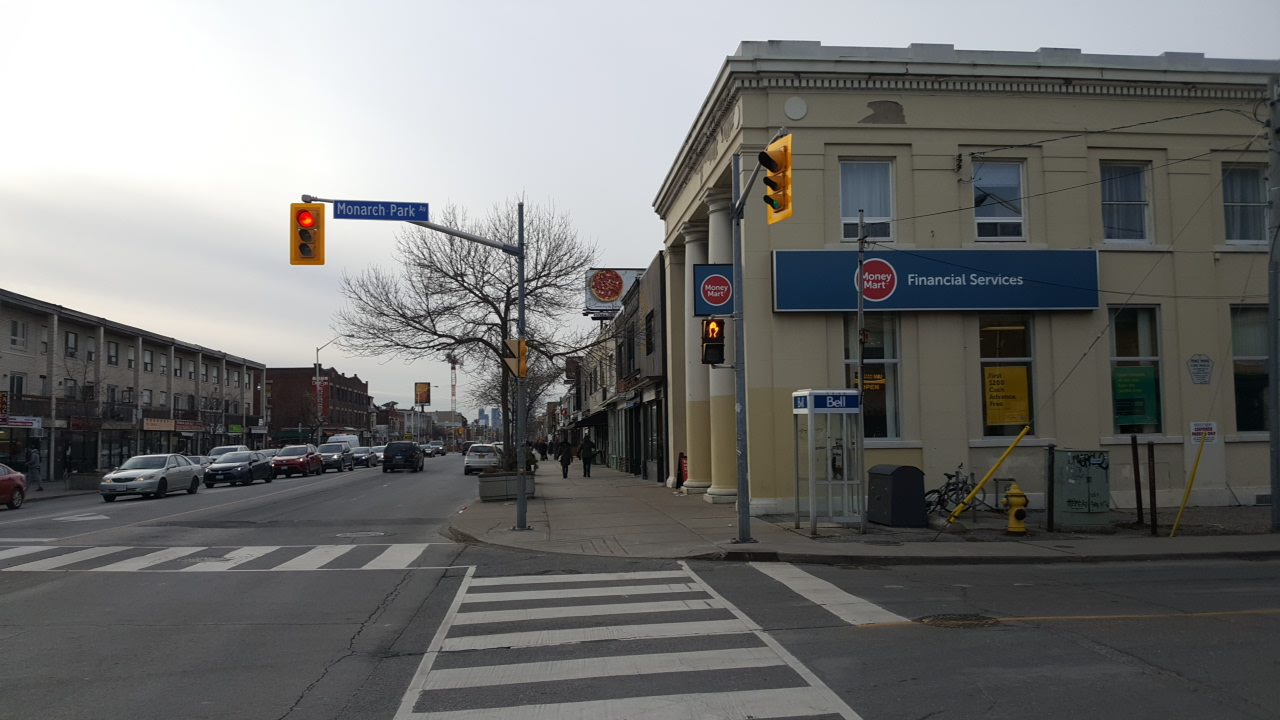light: (698, 314, 726, 366)
